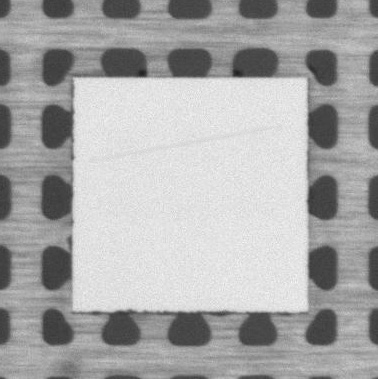DIE_CRACK: (90, 126, 279, 161)
